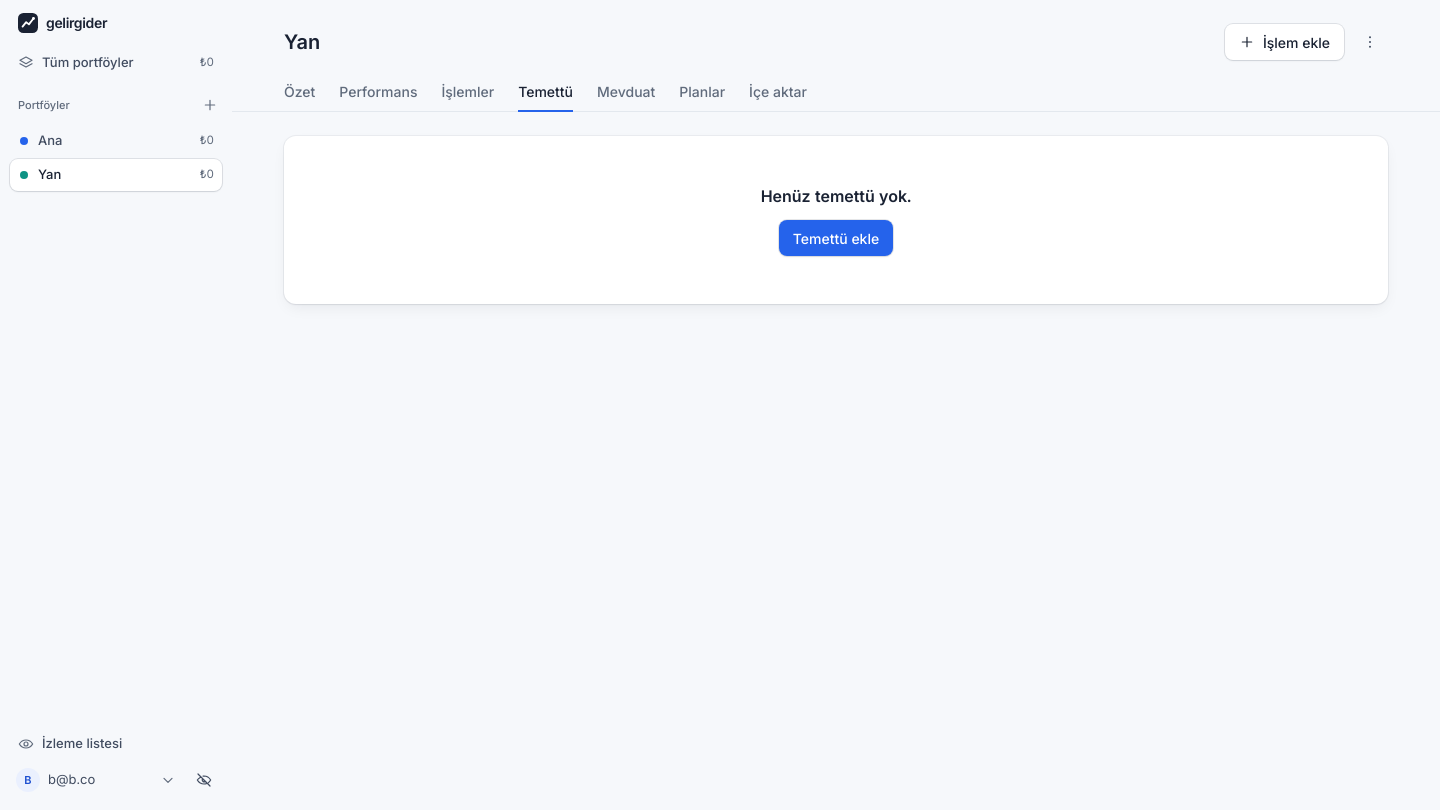
Test: App › closes a portfolio page dialog when Back leads to another portfolio
The image size is (1440, 810).
Expected: the button "Temettü ekle" is shown, [779,220,893,256]
Note: The sidebar keeps the tab: A's Temettüler, its add dialog open.
Step 1. Click the link "Ana ₺0" → (24, 141), box [20,132,214,148]
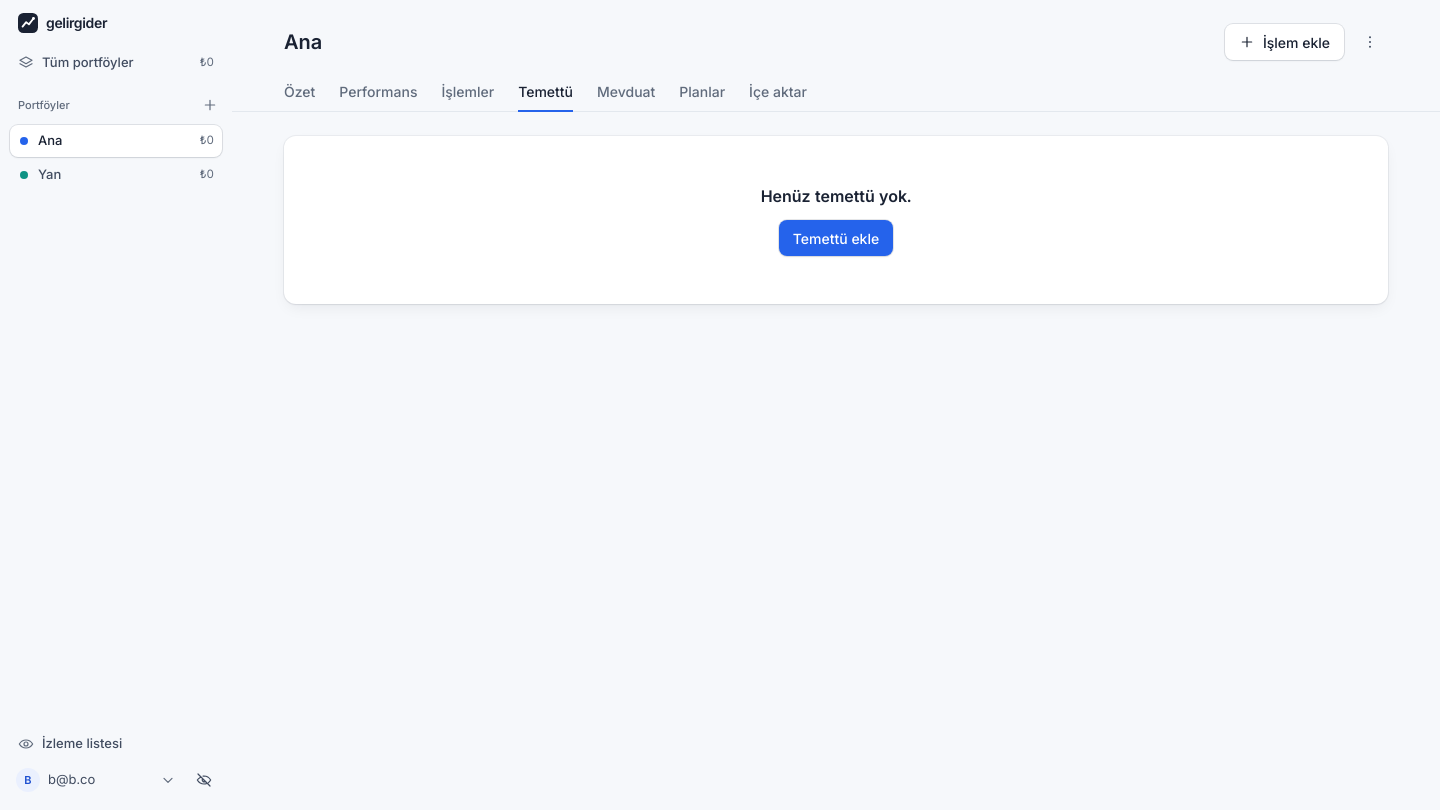
Step 2. Click the button "Temettü ekle" → (836, 238), box [779,220,893,256]
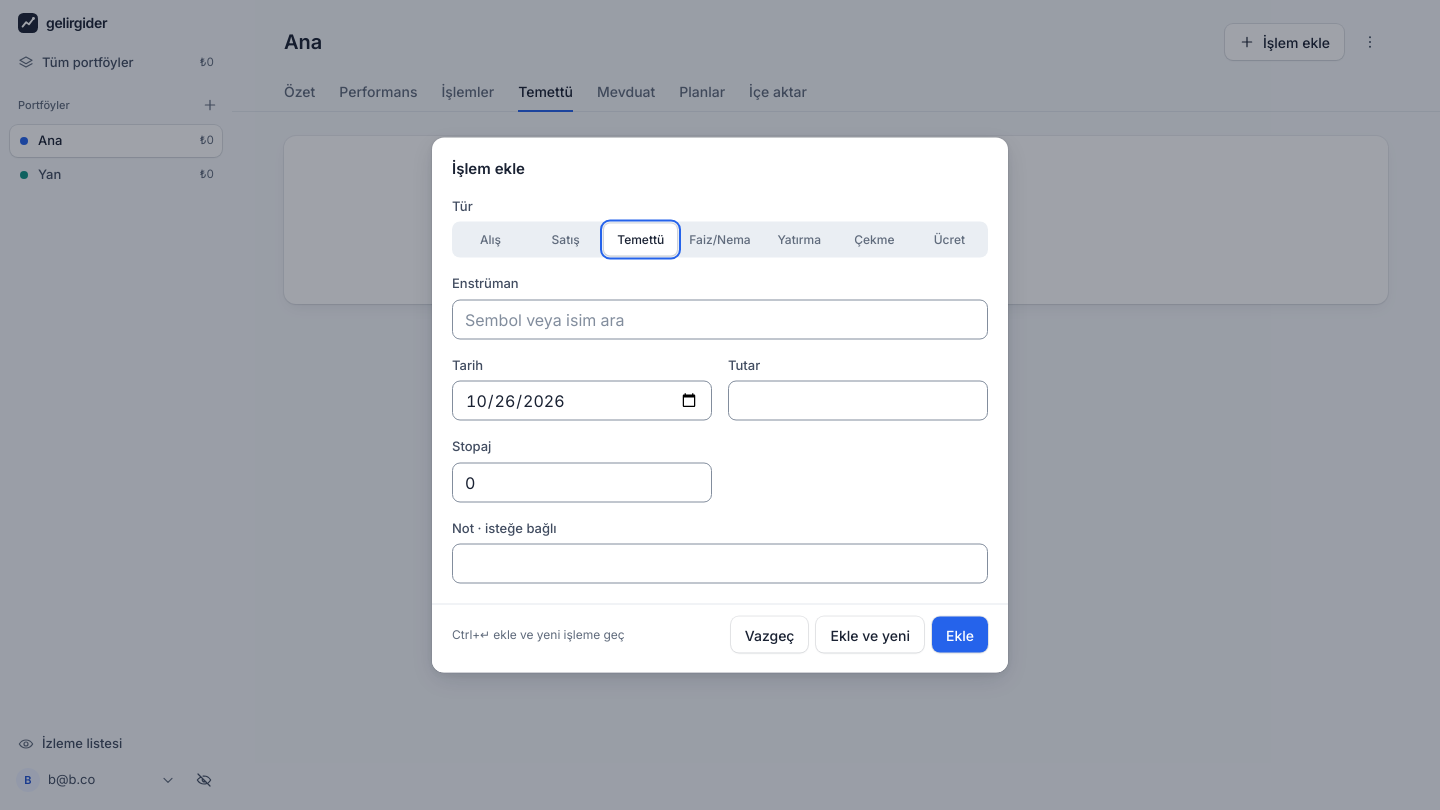
Now the dialog is shown, box [432,138,1008,672]
